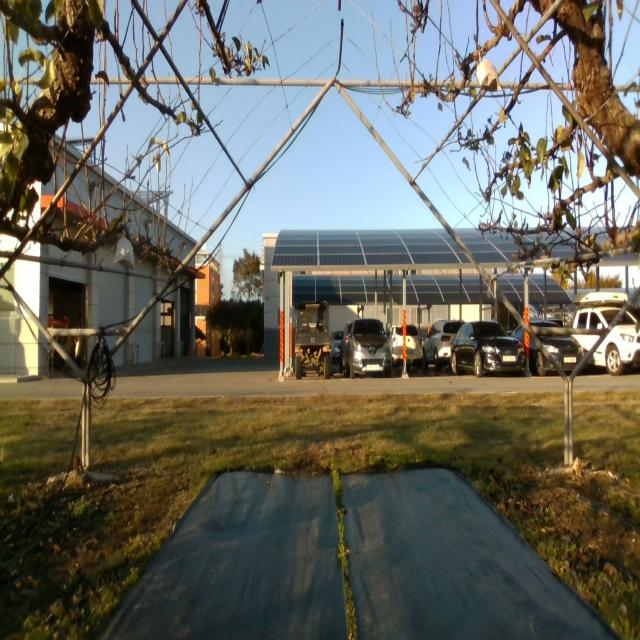pearbags: (476, 52, 502, 92), (113, 230, 136, 271)
